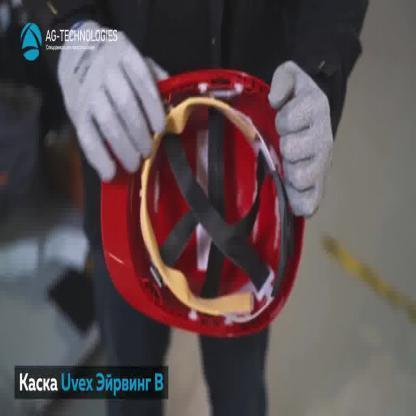gloves: (56, 21, 170, 186), (266, 56, 334, 220)
helmet: (100, 66, 306, 342)
